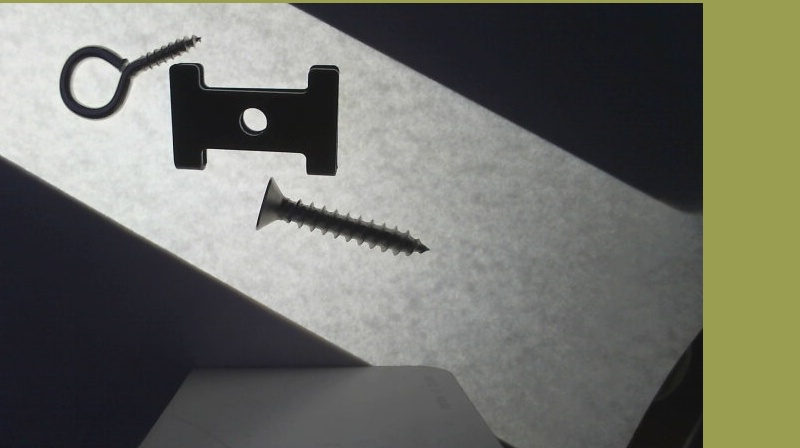O001: (56, 32, 201, 119)
O002: (167, 59, 341, 175)
S001: (253, 175, 428, 255)
